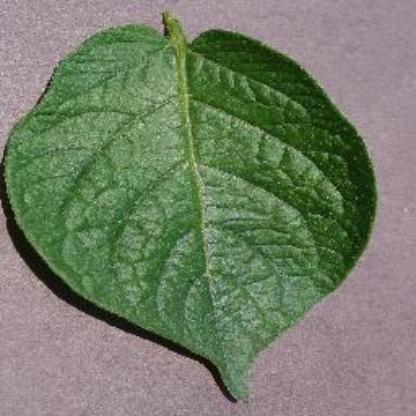Healthy-plant: (3, 7, 378, 405)
